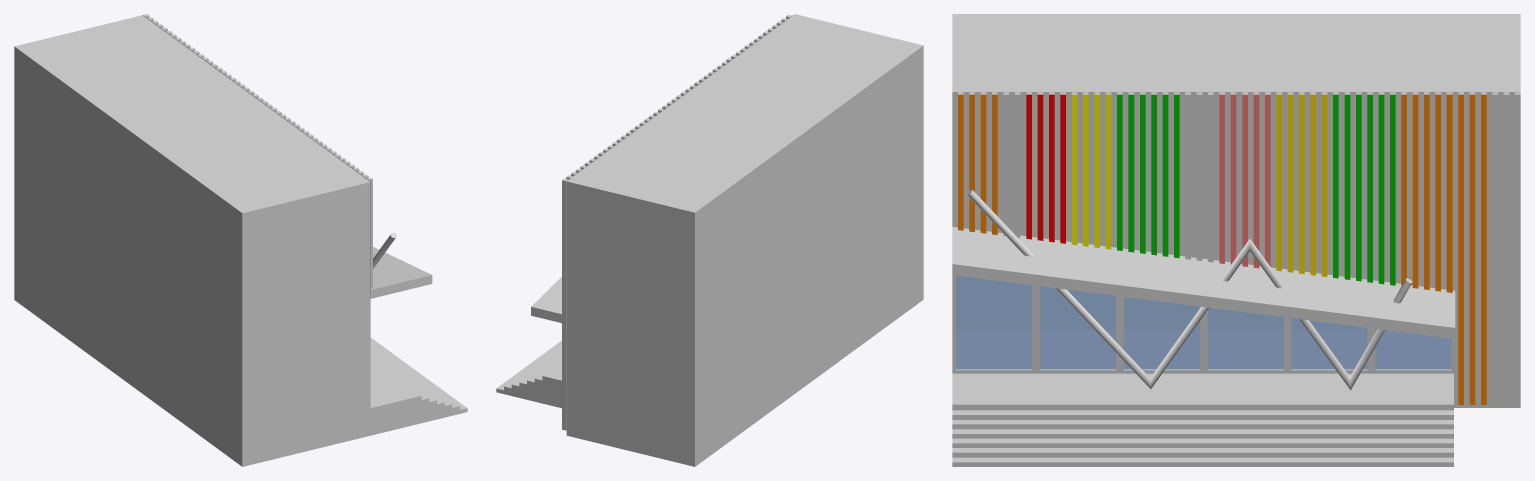
File: Tòa mỹ thuật.fbx
3 renders of one model, left to right at view 1: azimuth 30°, elevation 25°; view 2: azimuth 150°, elevation 25°; view 3: azimuth 270°, elevation 25°, orthographic. The views are drawn at different scales.
Visible parts, largest first — view 1: Toamythuat_LOD0; view 2: Toamythuat_LOD0; view 3: Toamythuat_LOD0.
Boxes of the visible parts, x1=… form: Toamythuat_LOD0: x1=14, y1=14, x2=467, y2=466; Toamythuat_LOD0: x1=496, y1=14, x2=923, y2=466; Toamythuat_LOD0: x1=952, y1=14, x2=1520, y2=466.
Size of what is drawn, in the model's own units: 927 by 998 by 1627.
